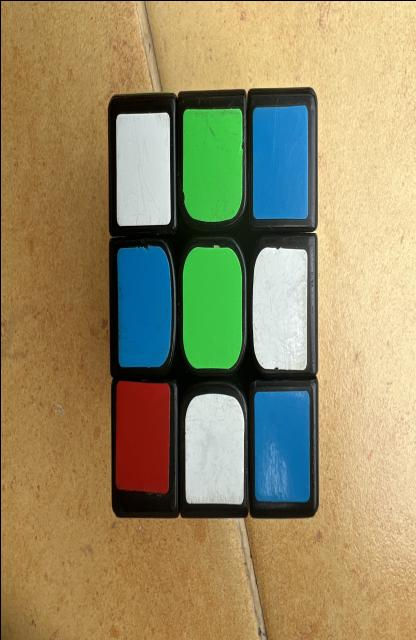Blue: (116, 245, 171, 367), (252, 105, 307, 218), (254, 390, 309, 502)
Green: (181, 245, 241, 368), (182, 107, 242, 222)
Red: (115, 380, 169, 493)
White: (184, 392, 244, 503), (252, 247, 306, 370), (115, 112, 170, 225)
